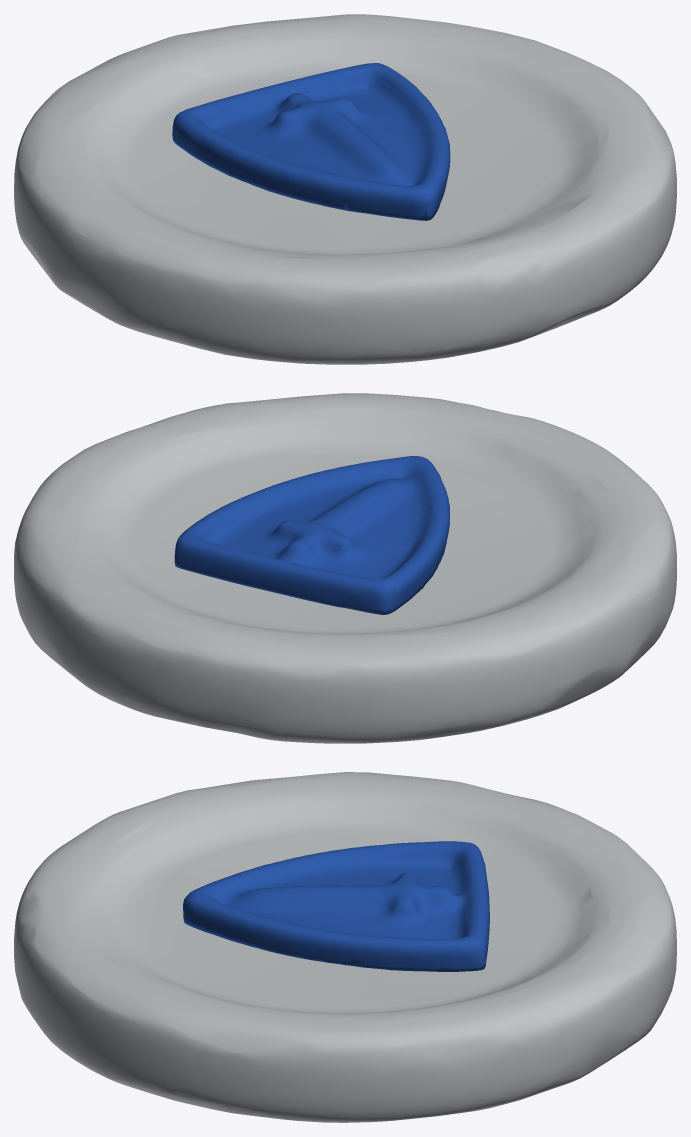
File: token-warrior-blue-draco.glb
3 views of the same model, one above another, from view 1: azimuth 30°, elevation 25°; view 2: azimuth 150°, elevation 25°; view 3: azimuth 270°, elevation 25° (orthographic).
Parts seen in each view (by area): view 1: token_warrior_blue; view 2: token_warrior_blue; view 3: token_warrior_blue.
Boxes of the visible parts, left/top/right/bottom form: token_warrior_blue: left=14, top=14, right=676, bottom=364; token_warrior_blue: left=14, top=393, right=676, bottom=743; token_warrior_blue: left=14, top=772, right=676, bottom=1122.
Size of the model in its own units: 0.4139 by 0.0744 by 0.414.
